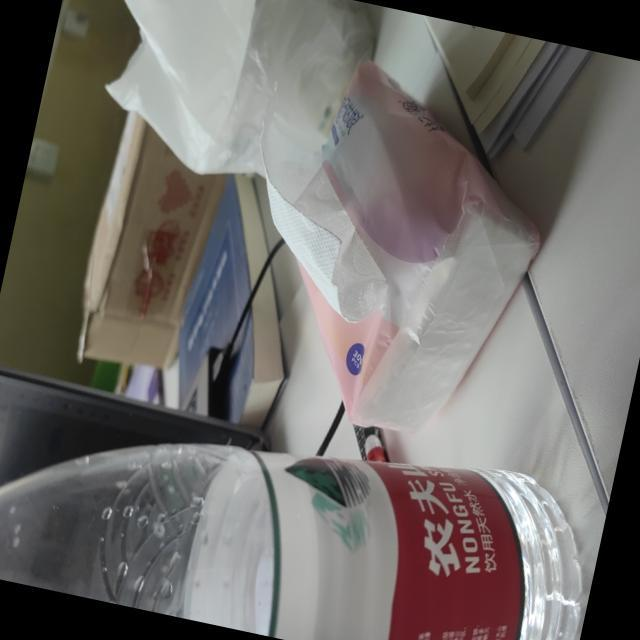good: (0, 361, 604, 640)
